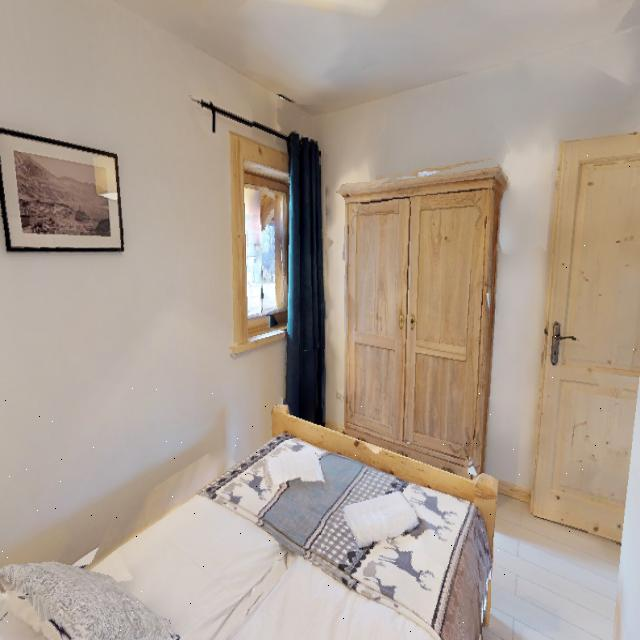bed: (0, 387, 541, 640)
door: (538, 139, 640, 536)
